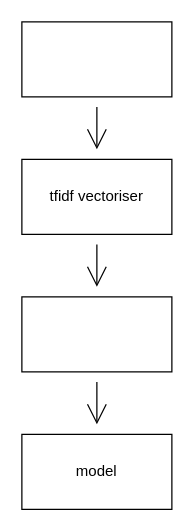
The diagram is 194 pixels wide and 531 high, and some of its shapes have lost their labels. Each missing label, with the centre of its shape:
"Hyper param tuning" goes at (x=96, y=334).
"raw text" goes at (x=96, y=59).
